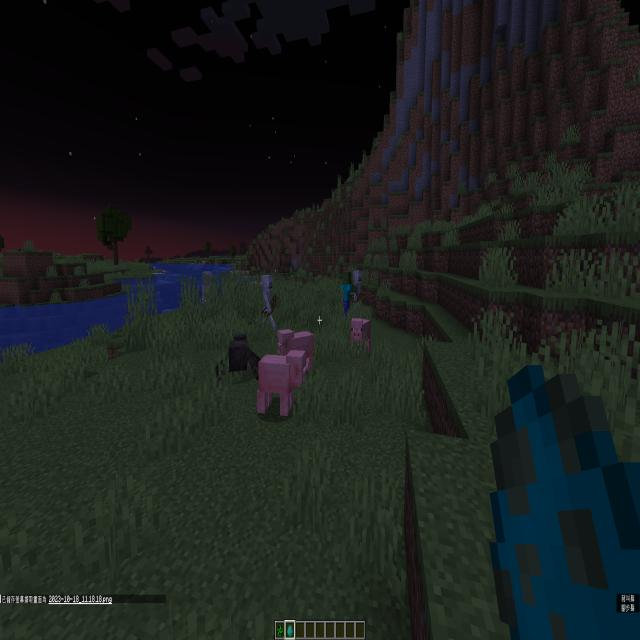Skeleton: (256, 265, 276, 334), (198, 269, 216, 325), (353, 265, 365, 314)
Spider: (212, 328, 261, 390)
Zombie: (334, 267, 353, 320)
pig: (255, 346, 309, 425), (276, 318, 318, 377), (346, 312, 374, 362)
